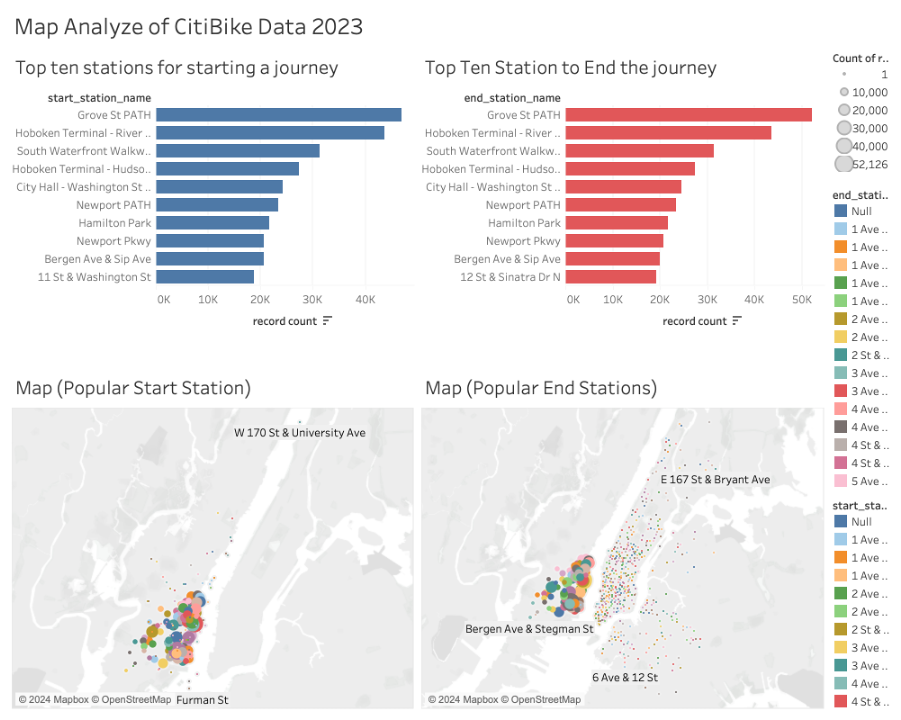

The page's visual inventory and layout, read from the dashboard file:
{"tool":"tableau","page":{"name":"map analyze","canvas":[1000,800],"ordinal":2},"visuals":[{"type":"title","box":[8,8,984,42]},{"type":"worksheet","title":"TopTenStation-start","mark":"Automatic","rows":["start_station_name"],"cols":["Calculation_1632625244878168067"],"box":[8,50,455.5,355.8]},{"type":"worksheet","title":"TopTenStation-end","mark":"Bar","rows":["end_station_name"],"cols":["Calculation_1632625244878168067"],"box":[463.5,50,455.5,355.8]},{"type":"legend","title":"map(end-station)","param":"[federated.15jcs160k327vz147ii350szdhfd].[cnt:ride_id:qk]","box":[919,50,73,152]},{"type":"legend","title":"map(end-station)","param":"[federated.15jcs160k327vz147ii350szdhfd].[none:end_station_name:nk]","box":[919,202,73,345]},{"type":"worksheet","title":"map(start-station)","mark":"Automatic","rows":["start_lat"],"cols":["start_lng"],"box":[8,405.8,455.5,386.2]},{"type":"worksheet","title":"map(end-station)","mark":"Automatic","rows":["end_lat"],"cols":["end_lng"],"box":[463.5,405.8,455.5,386.2]},{"type":"legend","title":"map(start-station)","param":"[federated.15jcs160k327vz147ii350szdhfd].[none:start_station_name:nk]","box":[919,547,73,245]}]}

Visuals, with their boxes in screenshot pixels (x1, y1, x2, y2), scaled from the page's 1000x800 canvas onto the 901x720 screenshot:
title: [7,7,894,45]
"TopTenStation-start" worksheet: [7,45,418,365]
"TopTenStation-end" worksheet (Bar marks): [418,45,828,365]
"map(end-station)" legend: [828,45,894,182]
"map(end-station)" legend: [828,182,894,492]
"map(start-station)" worksheet: [7,365,418,713]
"map(end-station)" worksheet: [418,365,828,713]
"map(start-station)" legend: [828,492,894,713]
